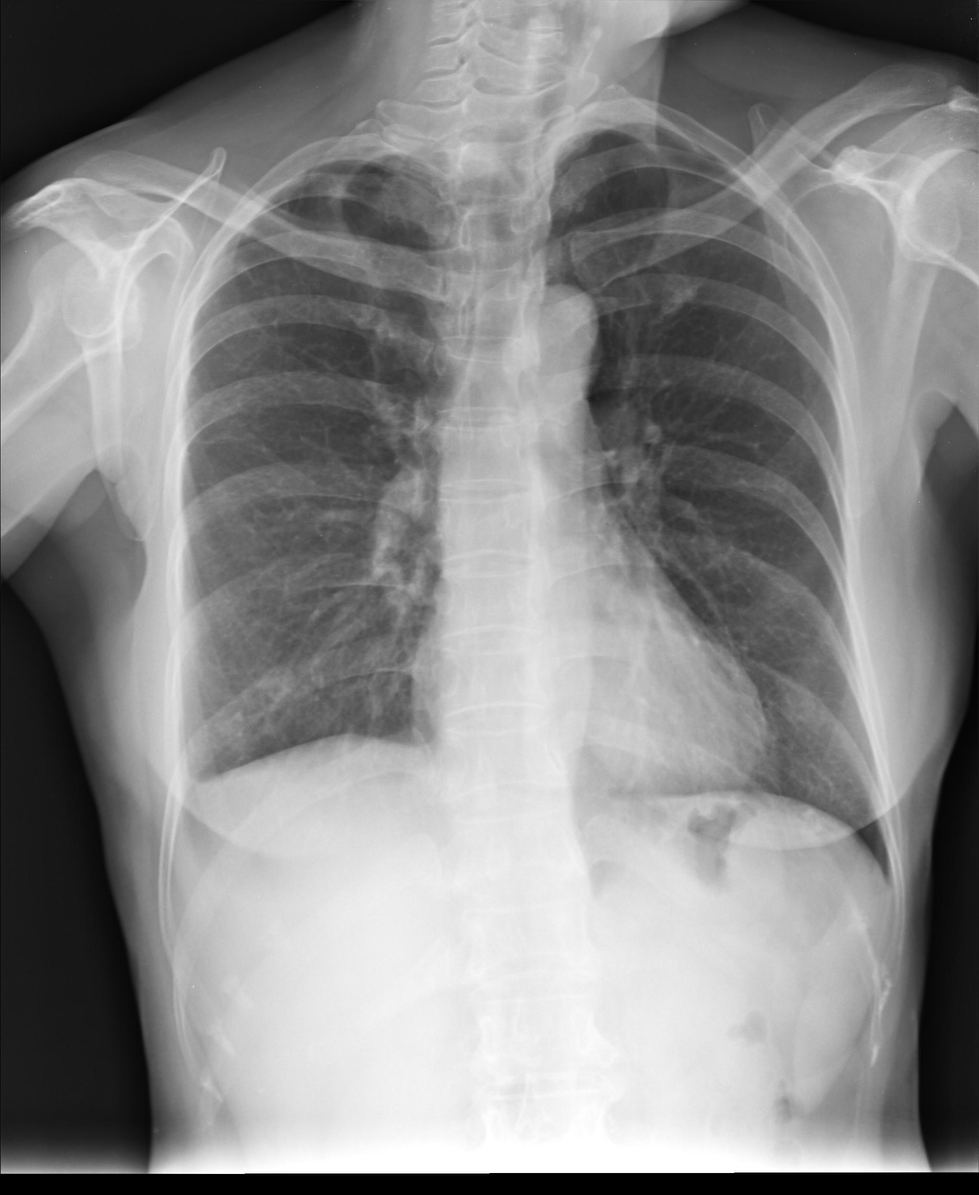Cardiomegaly: (413, 636, 769, 799)
Pleural thickening: (171, 744, 211, 831), (555, 125, 609, 163)
